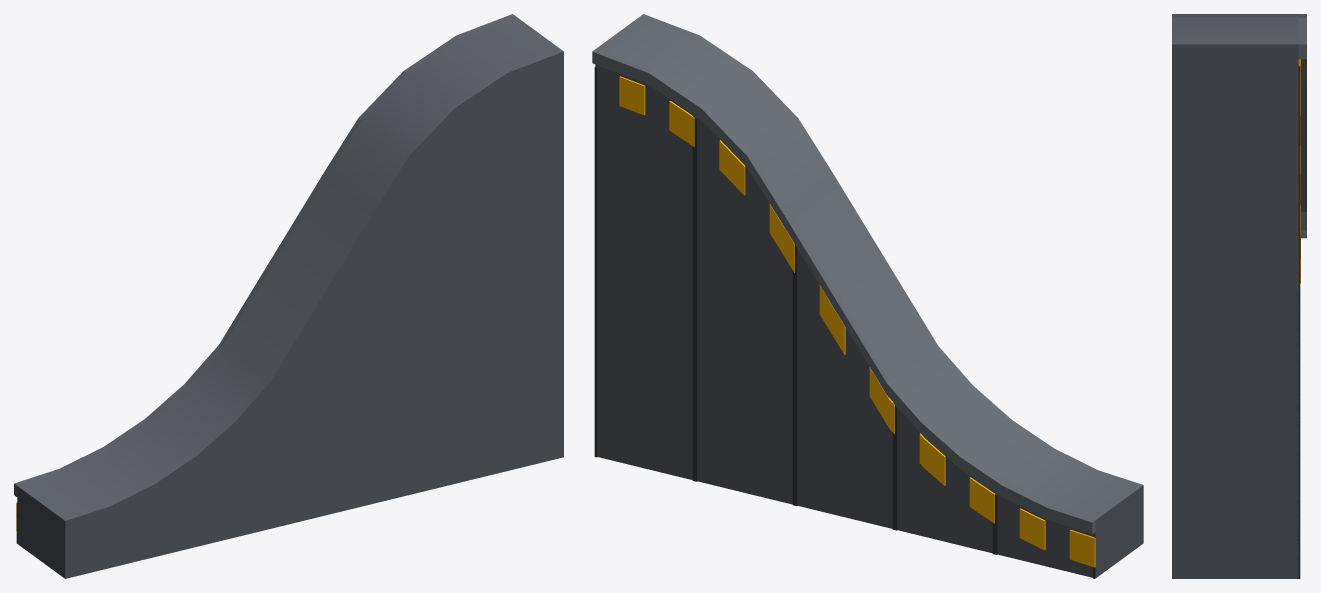
3 renders of one model, left to right at view 1: azimuth 30°, elevation 25°; view 2: azimuth 150°, elevation 25°; view 3: azimuth 270°, elevation 25°, orthographic. The views are drawn at different scales.
Parts seen in each view (by area): view 1: c3w; view 2: c3w; view 3: c3w.
Boxes of the visible parts, box(x1,y1,x2,y2) form: c3w: box(14, 14, 563, 578); c3w: box(592, 14, 1143, 578); c3w: box(1172, 14, 1306, 578).
Size of the model in its own units: 9 by 7 by 1.6.
